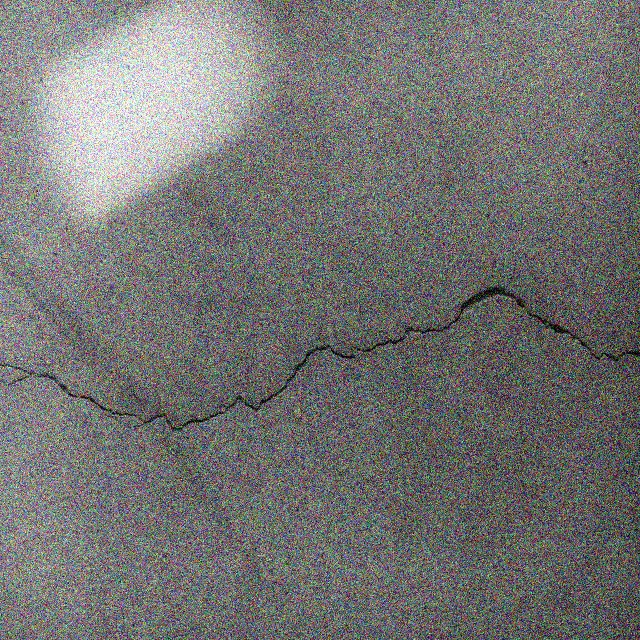SurfaceCrack: (1, 261, 640, 458)
